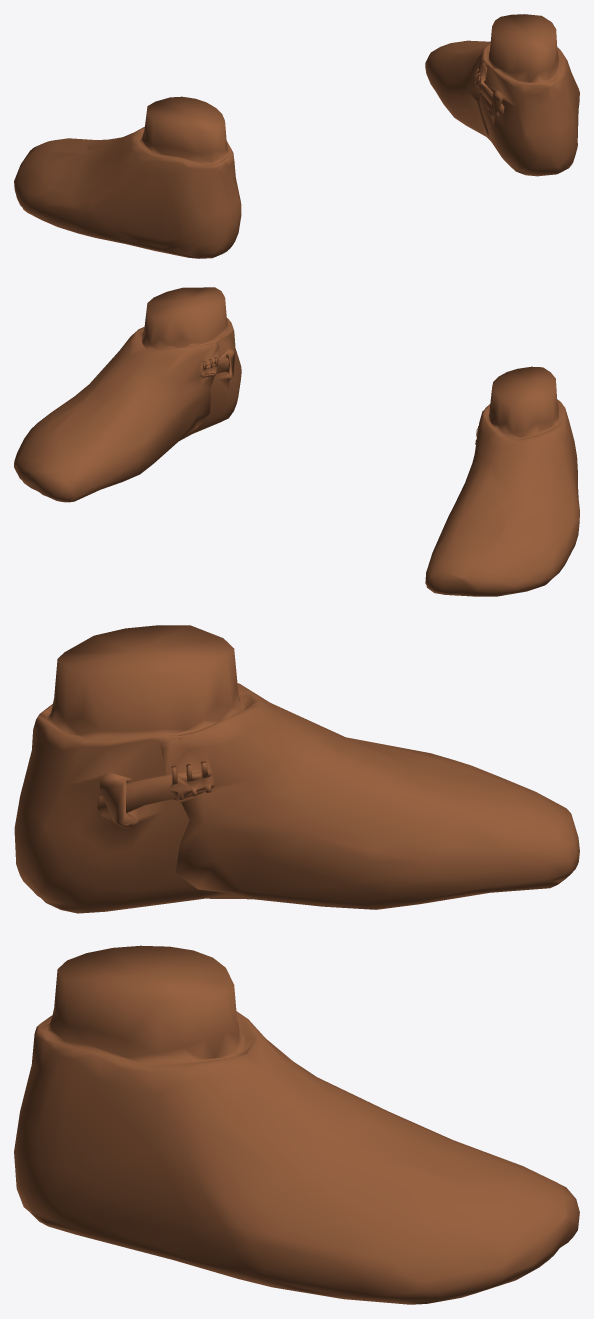
Rendered from Shoes.fbx.
3 views of the same model, one above another, from view 1: azimuth 30°, elevation 25°; view 2: azimuth 150°, elevation 25°; view 3: azimuth 270°, elevation 25° (orthographic). The views are drawn at different scales.
Parts seen in each view (by area): view 1: Shoe_a; view 2: Shoe_a; view 3: Shoe_a.
Part boxes in pixels (x1,y1,x2,y2): Shoe_a: [14, 14, 579, 258]; Shoe_a: [14, 287, 579, 596]; Shoe_a: [14, 625, 579, 1304].
Size of the model in its own units: 0.7086 by 0.3379 by 0.1675.
